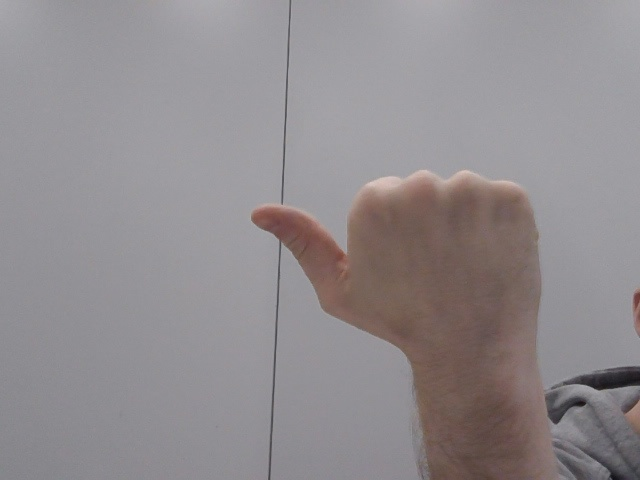right: (236, 161, 585, 367)
